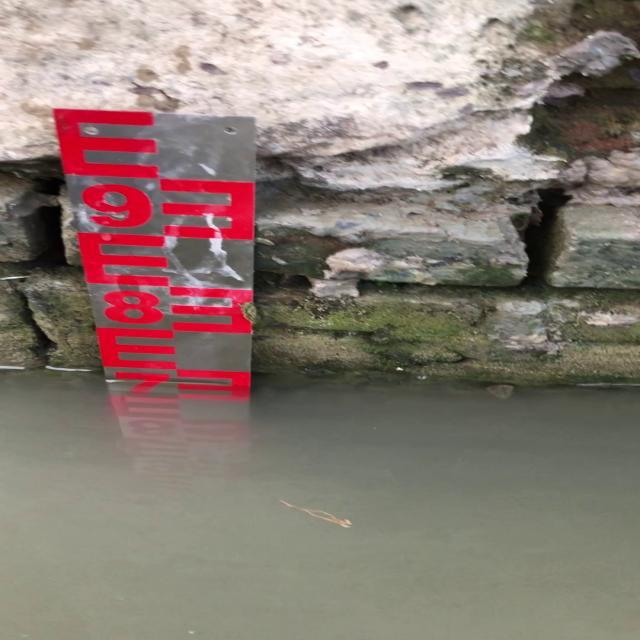ruler: (40, 91, 286, 395)
value: (62, 172, 166, 236), (88, 282, 176, 330)
